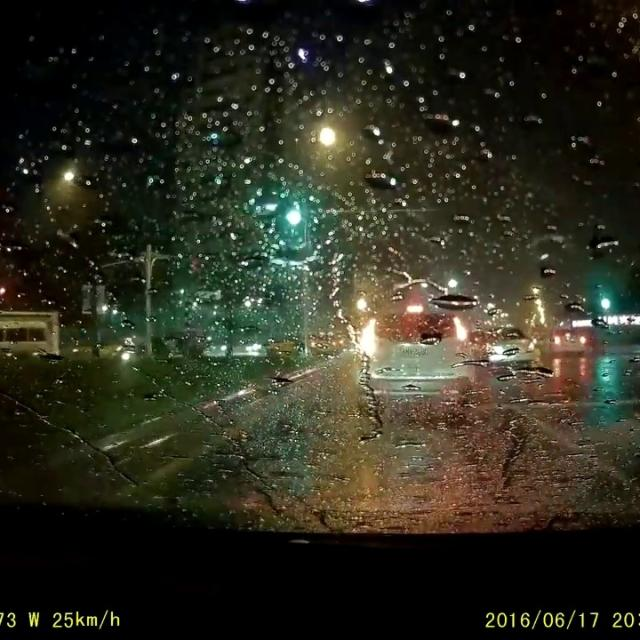Car: (349, 300, 476, 410), (473, 324, 541, 368), (543, 327, 590, 354)
